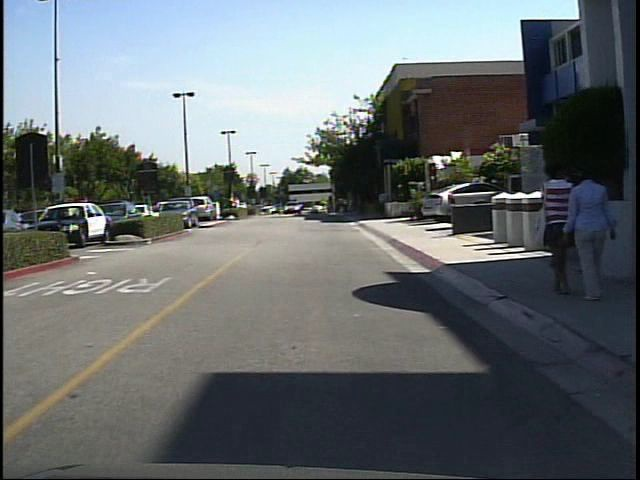person: (561, 161, 617, 300), (537, 157, 575, 298), (230, 192, 246, 219), (319, 196, 333, 221)
